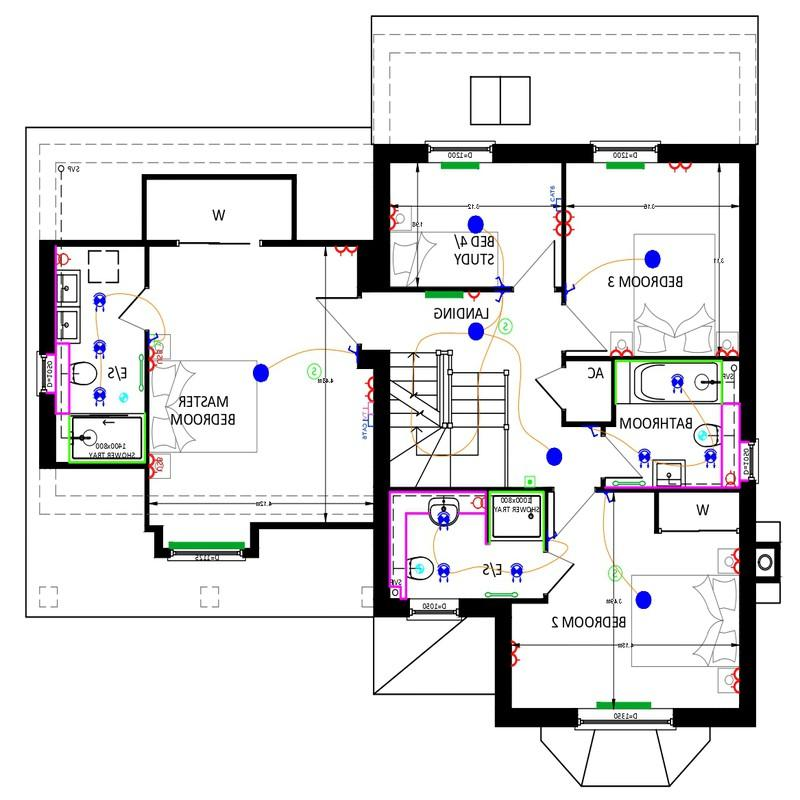Cat 6 Data Socket: (359, 406, 372, 439)
Ceiling Mounted Continuous Extract Fan With Boost Mode Activated By Light Switch: (410, 562, 430, 580), (694, 429, 713, 445), (119, 388, 131, 409)
Co-Ax TV Socket: (360, 401, 378, 417)
Double Socket: (505, 635, 526, 673), (722, 543, 742, 579), (546, 203, 564, 243), (724, 665, 741, 705), (387, 197, 404, 233), (665, 161, 697, 176), (711, 343, 740, 359), (361, 372, 375, 405), (564, 210, 578, 242), (333, 243, 360, 259), (606, 347, 639, 360)
Light Switch: (563, 272, 584, 308), (483, 289, 517, 309), (486, 271, 515, 286), (583, 425, 606, 442), (598, 490, 618, 506), (548, 525, 561, 549), (347, 337, 357, 363), (149, 329, 161, 346)
Low Energy Downlighter: (432, 556, 461, 587), (503, 553, 528, 588), (428, 508, 456, 533), (699, 442, 719, 477), (630, 442, 653, 470), (666, 369, 687, 399), (91, 332, 110, 364), (88, 288, 109, 316), (88, 382, 111, 406)
Low Energy Pendant Light: (536, 438, 573, 467), (458, 210, 492, 238), (247, 355, 274, 388), (634, 587, 659, 613), (462, 321, 490, 344), (638, 245, 664, 269)
Mains Wired Smoke Detector: (494, 316, 517, 339), (306, 361, 325, 387), (605, 562, 625, 585)
Programmable Room Thermostat: (517, 471, 544, 487)
Radiator: (165, 537, 248, 551), (598, 161, 655, 174), (589, 699, 659, 709), (433, 159, 486, 172), (422, 288, 465, 301)
Shaver Socket: (468, 493, 489, 520), (53, 248, 75, 270), (723, 465, 737, 489)
Single Socket: (466, 289, 481, 305)
USB Double Socket: (145, 452, 165, 483), (146, 346, 164, 376)
